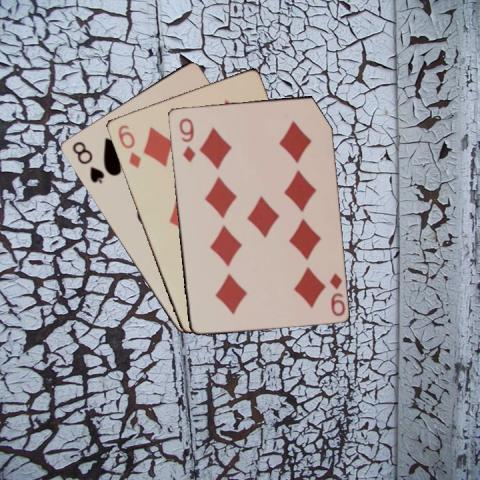6d: (115, 122, 142, 169)
8s: (69, 138, 106, 185)
9d: (176, 115, 196, 163), (327, 270, 345, 318)
